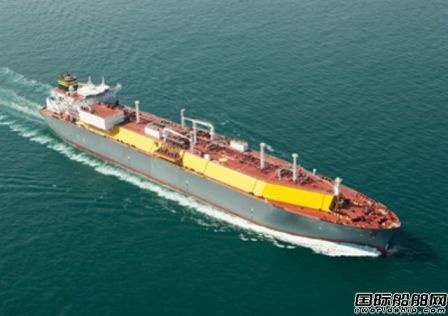Cargoship: (34, 69, 403, 257)
